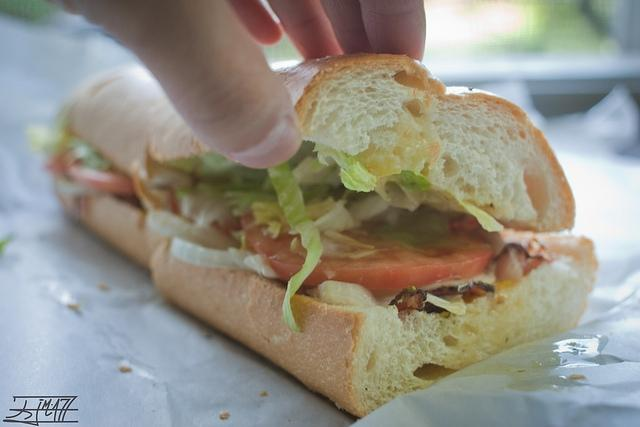lettuce: (306, 174, 504, 232), (268, 161, 324, 331), (368, 205, 490, 250), (312, 142, 382, 192), (292, 156, 348, 200), (166, 150, 242, 178), (222, 190, 278, 216), (61, 144, 94, 166)
tomato: (241, 214, 494, 290), (45, 147, 135, 195)
